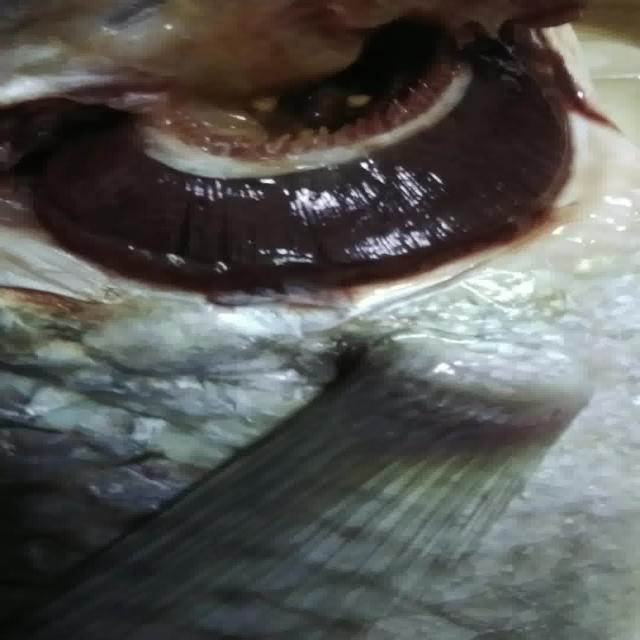Non-Fresh: (0, 0, 626, 327)
